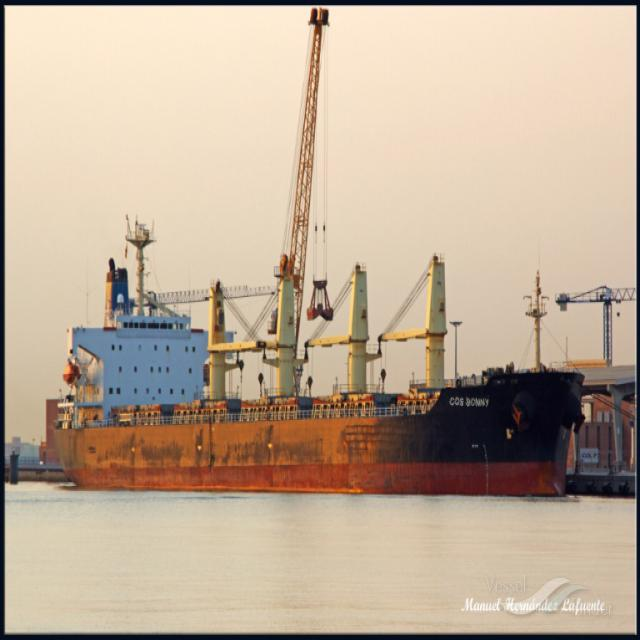OCR: (447, 388, 492, 408)
